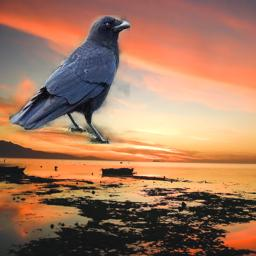Crow: (9, 15, 130, 144)
